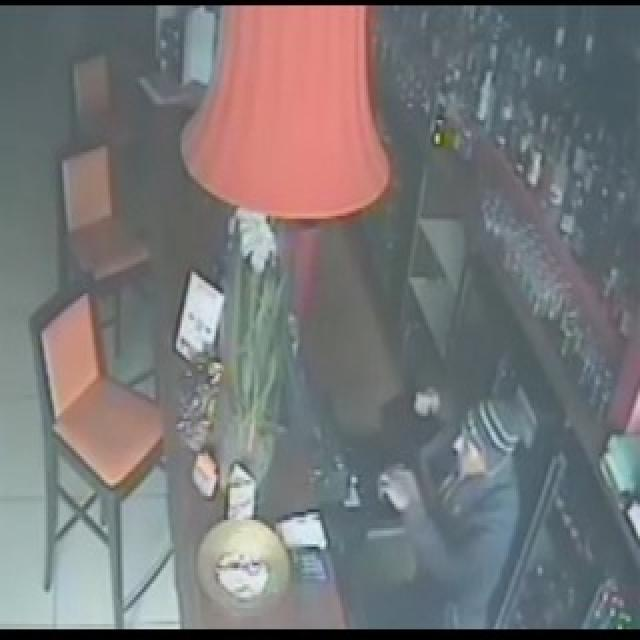thief: (416, 370, 528, 552)
